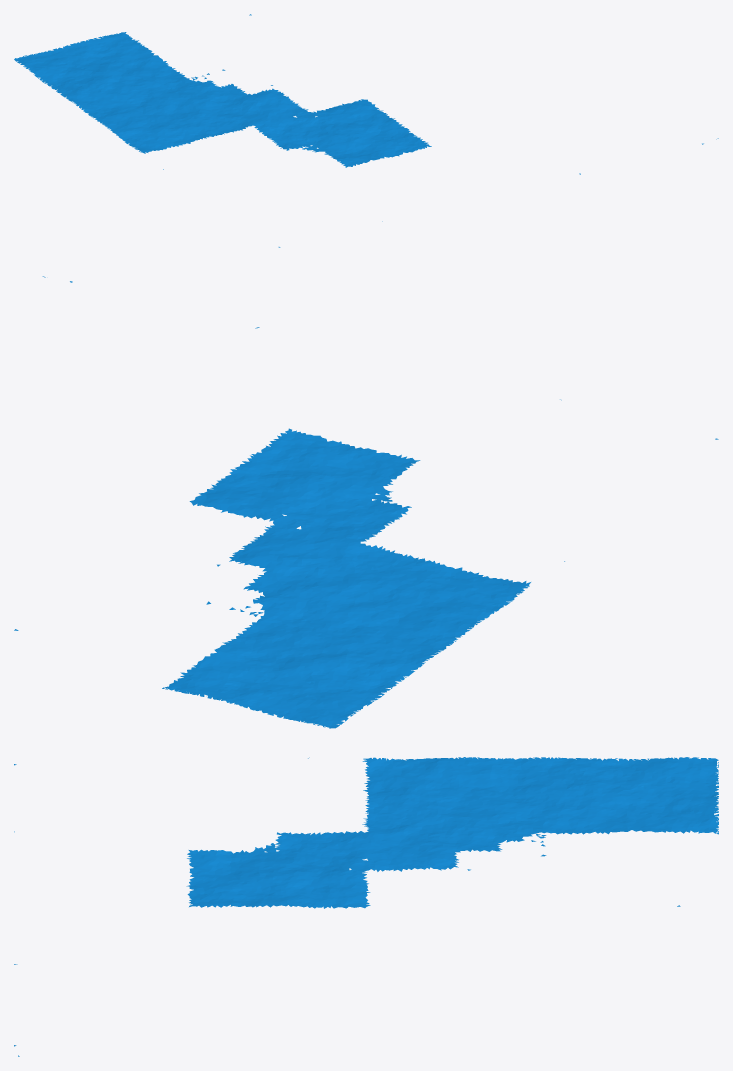
Rendered from ChunkPrefab4.fbx.
3 views of the same model, one above another, from view 1: azimuth 30°, elevation 25°; view 2: azimuth 150°, elevation 25°; view 3: azimuth 270°, elevation 25° (orthographic). The views are drawn at different scales.
Visible parts, largest first — view 1: ChunkPrefab_Clone_; view 2: ChunkPrefab_Clone_; view 3: ChunkPrefab_Clone_.
Boxes of the visible parts, x1,y1,x2,y2 form: ChunkPrefab_Clone_: (14,14,718,247); ChunkPrefab_Clone_: (14,276,718,728); ChunkPrefab_Clone_: (14,757,718,1056).
Bounding box in the file's own units: 99979 × 604 × 99996.
